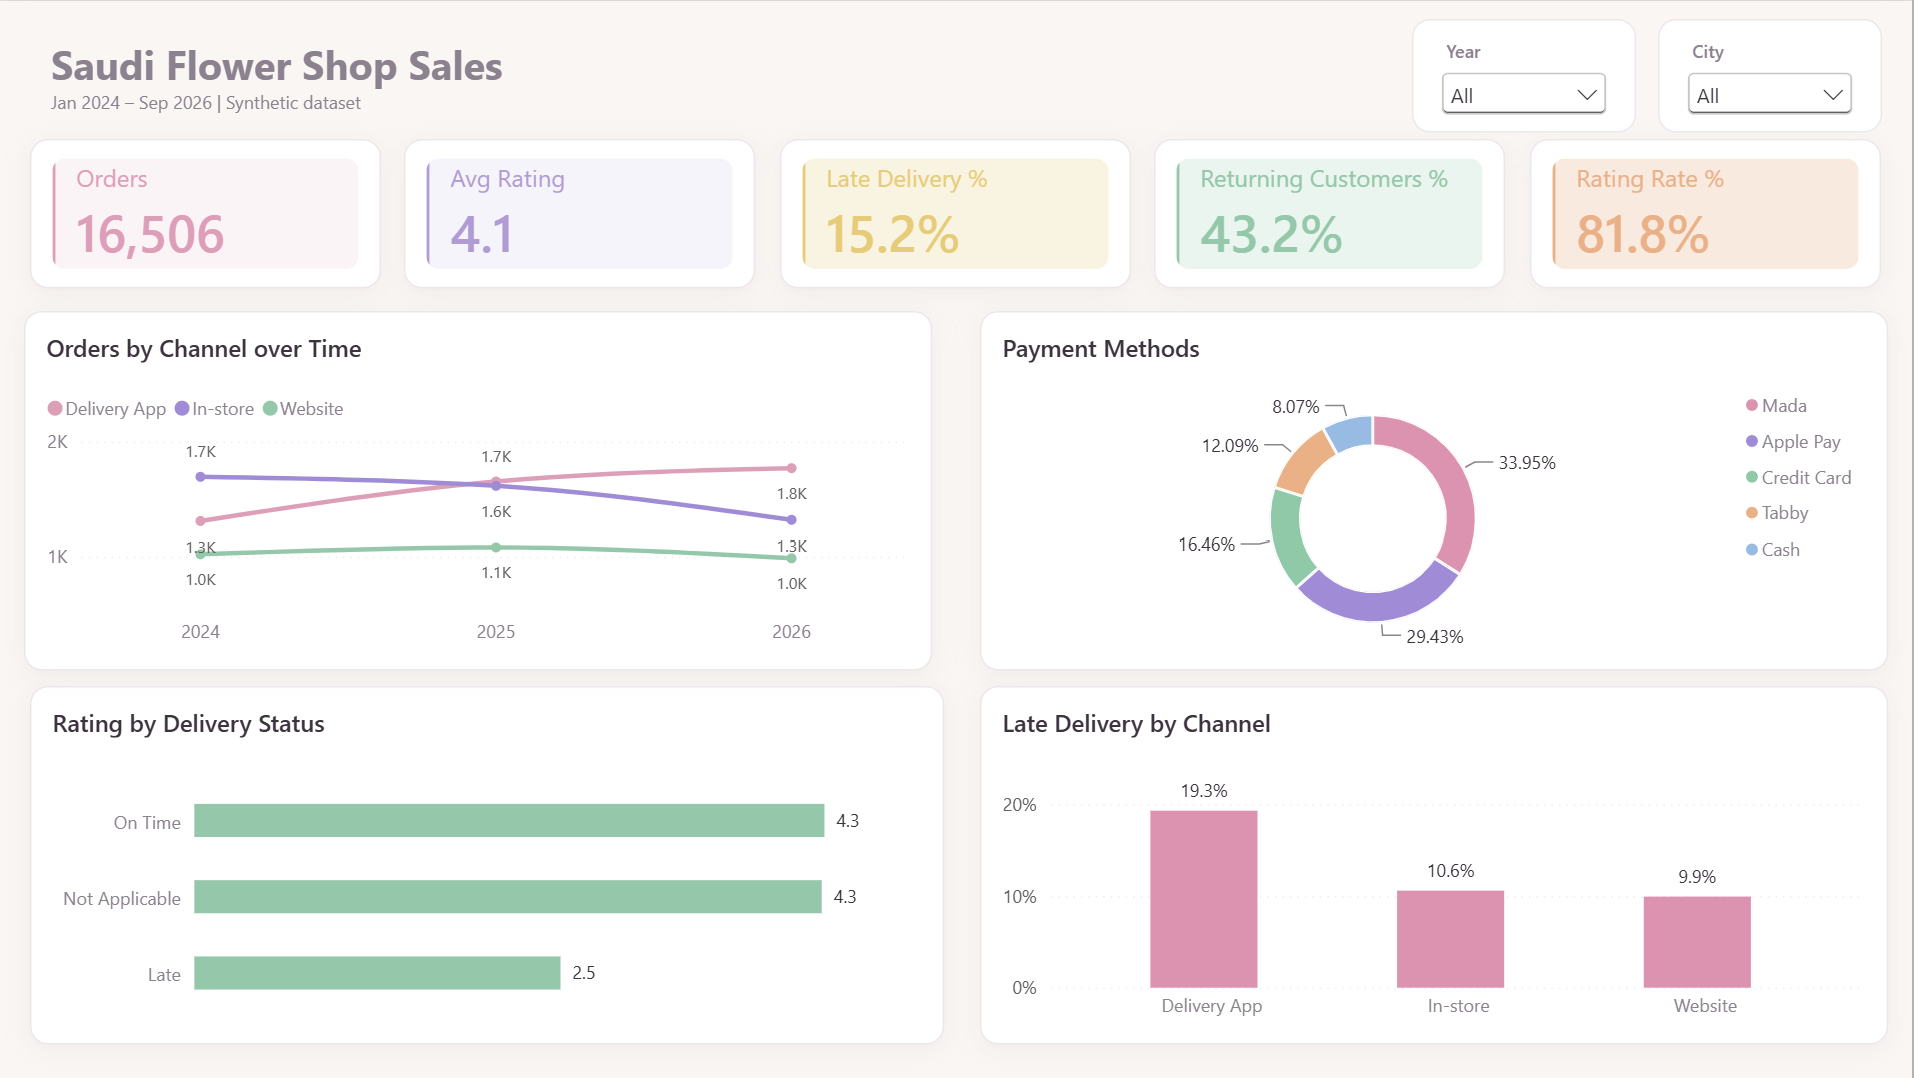

This screenshot's page, from the dashboard's own definition file:
{"tool":"powerbi","page":{"name":"Channels & Customers","canvas":[1280,720],"ordinal":2},"visuals":[{"type":"textbox","box":[20,12,600,76],"z":0},{"type":"cardVisual","fields":{"Data":["Date.Orders Display"]},"box":[20,92,235,100],"z":1000},{"type":"cardVisual","fields":{"Data":["saudi_flower_shop_sales.Avg Rating"]},"box":[271,92,235,100],"z":2000},{"type":"cardVisual","fields":{"Data":["saudi_flower_shop_sales.Late Delivery %"]},"box":[522,92,235,100],"z":3000},{"type":"cardVisual","fields":{"Data":["saudi_flower_shop_sales.Returning Customers %"]},"box":[773,92,235,100],"z":4000},{"type":"clusteredBarChart","title":"Rating by Delivery Status","fields":{"Category":["saudi_flower_shop_sales.delivery_status"],"Y":["saudi_flower_shop_sales.Avg Rating"]},"box":[20,458,612,240],"z":5000},{"type":"donutChart","title":"Payment Methods","fields":{"Category":["saudi_flower_shop_sales.payment_method"],"Y":["saudi_flower_shop_sales.Orders"]},"box":[656,208,608,240],"z":6000},{"type":"clusteredColumnChart","title":"Late Delivery by Channel","fields":{"Category":["saudi_flower_shop_sales.channel"],"Y":["saudi_flower_shop_sales.Late Delivery %"]},"box":[656,458,608,240],"z":7000},{"type":"cardVisual","fields":{"Data":["saudi_flower_shop_sales.Rating Rate %"]},"box":[1024,92,235,100],"z":8000},{"type":"slicer","fields":{"Values":["Date.Year"]},"box":[945,12,150,76],"z":9000},{"type":"slicer","fields":{"Values":["saudi_flower_shop_sales.city"]},"box":[1110,12,150,76],"z":10000},{"type":"lineChart","title":"Orders by Channel over Time","fields":{"Category":["Date.Year"],"Series":["saudi_flower_shop_sales.channel"],"Y":["saudi_flower_shop_sales.Orders"]},"box":[16,208,608,240],"z":11000}]}

Visuals, with their boxes in screenshot pixels (x1, y1, x2, y2), scaled from the page's 1280x720 canvas onto the 1914x1078 screenshot:
textbox: locate(30, 18, 927, 132)
cardVisual - Date.Orders Display: locate(30, 138, 381, 287)
cardVisual - saudi_flower_shop_sales.Avg Rating: locate(405, 138, 757, 287)
cardVisual - saudi_flower_shop_sales.Late Delivery %: locate(781, 138, 1132, 287)
cardVisual - saudi_flower_shop_sales.Returning Customers %: locate(1156, 138, 1507, 287)
"Rating by Delivery Status" clusteredBarChart: locate(30, 686, 945, 1045)
"Payment Methods" donutChart: locate(981, 311, 1890, 671)
"Late Delivery by Channel" clusteredColumnChart: locate(981, 686, 1890, 1045)
cardVisual - saudi_flower_shop_sales.Rating Rate %: locate(1531, 138, 1883, 287)
slicer - Date.Year: locate(1413, 18, 1637, 132)
slicer - saudi_flower_shop_sales.city: locate(1660, 18, 1884, 132)
"Orders by Channel over Time" lineChart: locate(24, 311, 933, 671)
